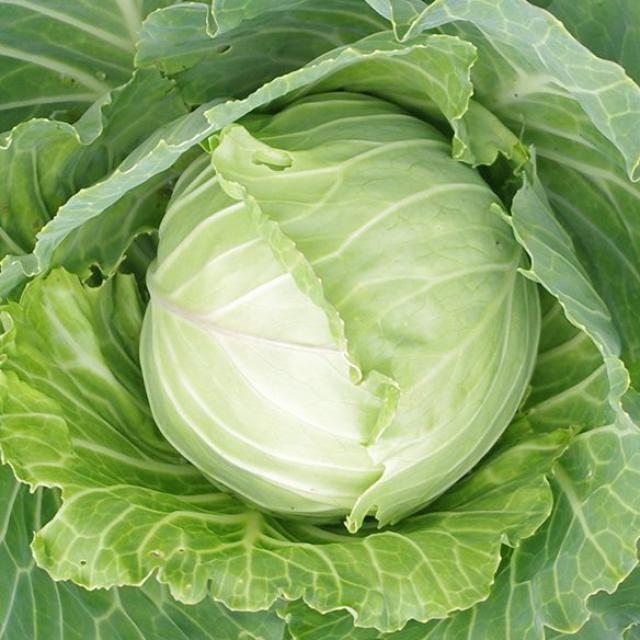cabbage: (141, 97, 539, 517)
